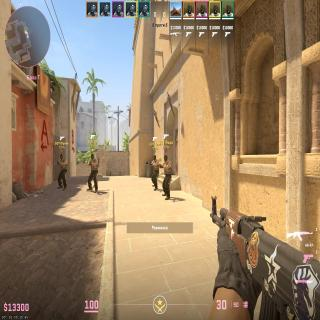T-Body: (161, 155, 172, 200), (88, 153, 99, 193), (58, 153, 68, 191), (152, 155, 160, 191)
T-Head: (60, 154, 64, 159), (91, 154, 94, 160), (164, 155, 167, 161), (154, 155, 156, 160)
